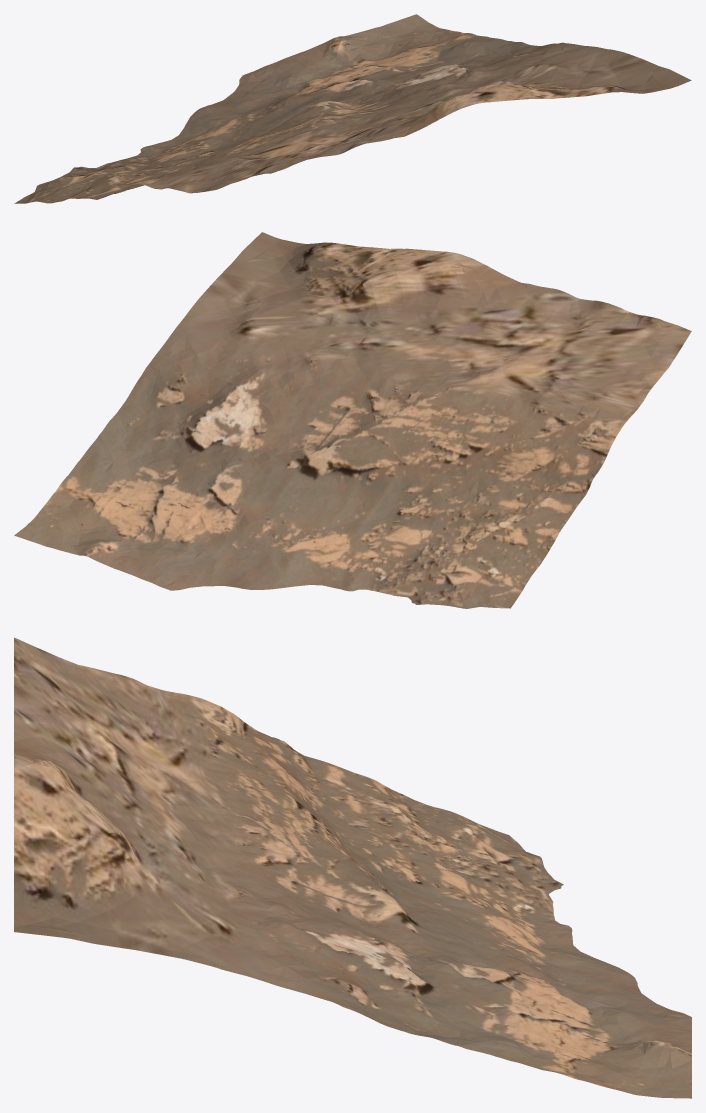
The picture shows the model from 3 angles, top to bottom: view 1: azimuth 30°, elevation 25°; view 2: azimuth 150°, elevation 25°; view 3: azimuth 270°, elevation 25°; orthographic projection. The views are drawn at different scales.
Size of the model in its own units: 1.04 by 0.3834 by 1.04.
2 materials, 2 textured.
